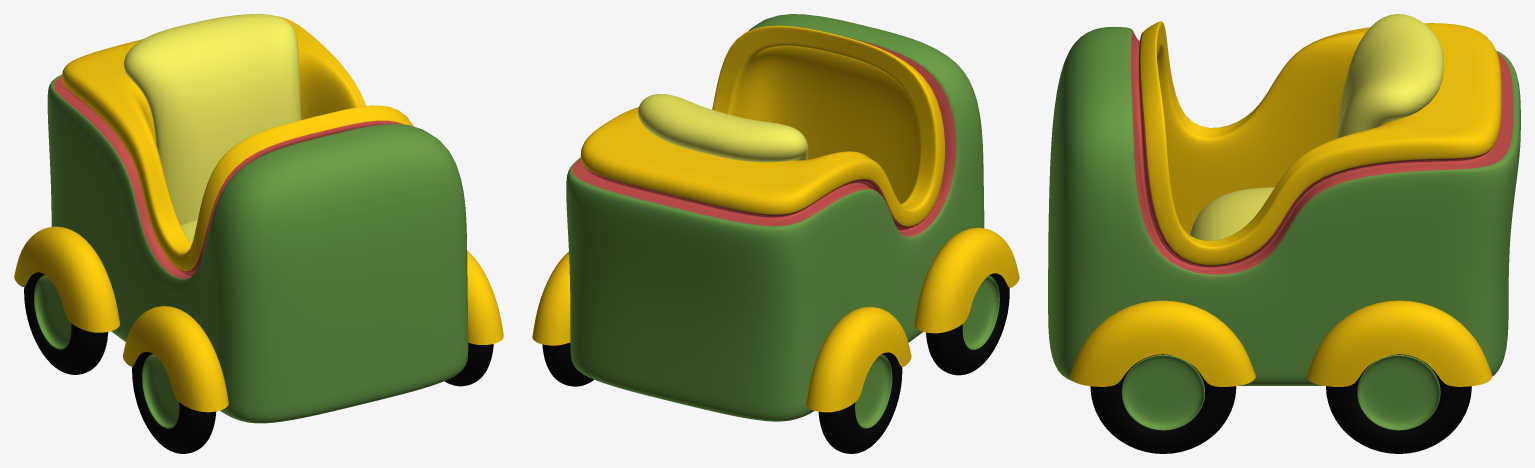
Rendered from truckgreen.fbx.
3 views of the same model, side by side, from view 1: azimuth 30°, elevation 25°; view 2: azimuth 150°, elevation 25°; view 3: azimuth 270°, elevation 25° (orthographic). The views are drawn at different scales.
Visible parts, largest first — view 1: Body, Whells, Back; view 2: Body, Whells, Back; view 3: Body, Whells, Back, Seat.
Part boxes in pixels (bbox=[...]): Body: bbox=[47, 16, 468, 423]; Whells: bbox=[14, 226, 503, 453]; Back: bbox=[124, 14, 300, 225]; Body: bbox=[566, 14, 984, 421]; Whells: bbox=[532, 227, 1019, 453]; Back: bbox=[638, 94, 808, 162]; Body: bbox=[1048, 21, 1520, 385]; Whells: bbox=[1070, 300, 1492, 453]; Back: bbox=[1335, 14, 1443, 138]; Seat: bbox=[1190, 187, 1274, 240].
Size of the model in its own units: 68.52 by 62.53 by 80.8.
